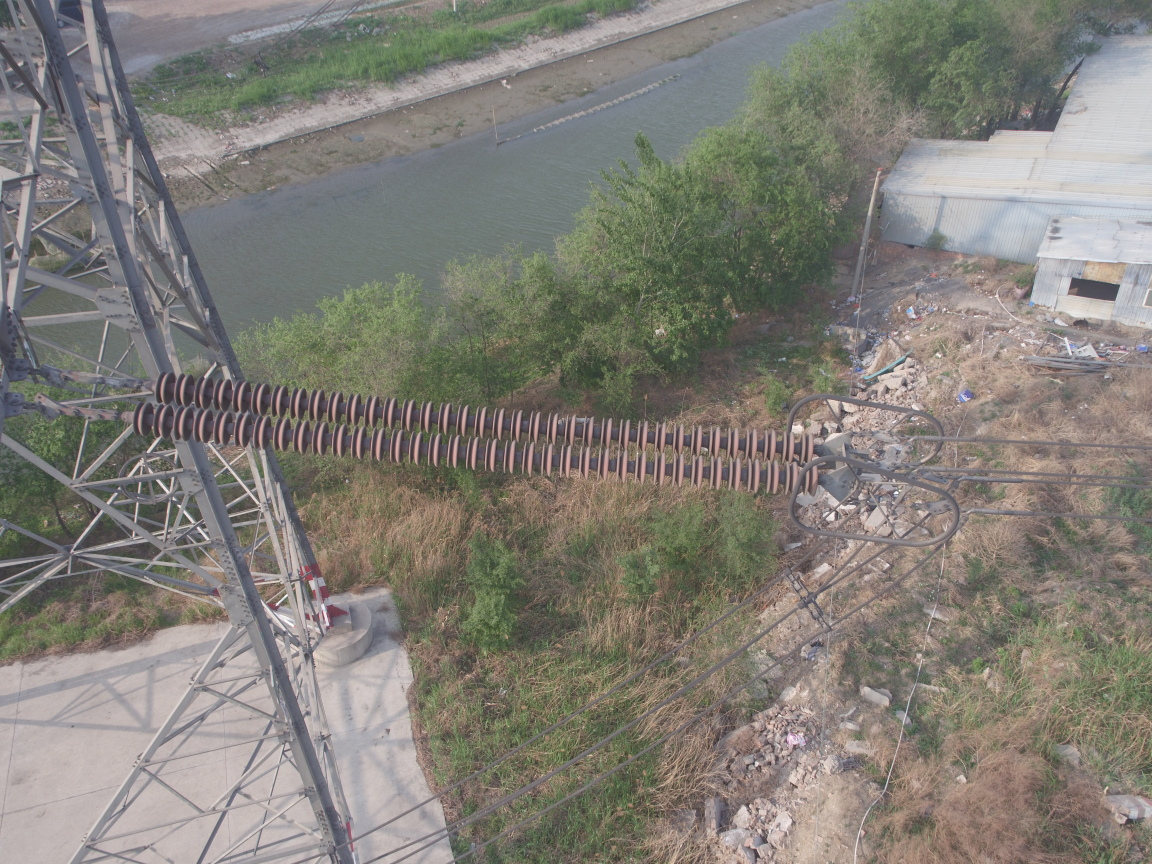insulator: (106, 368, 837, 500)
